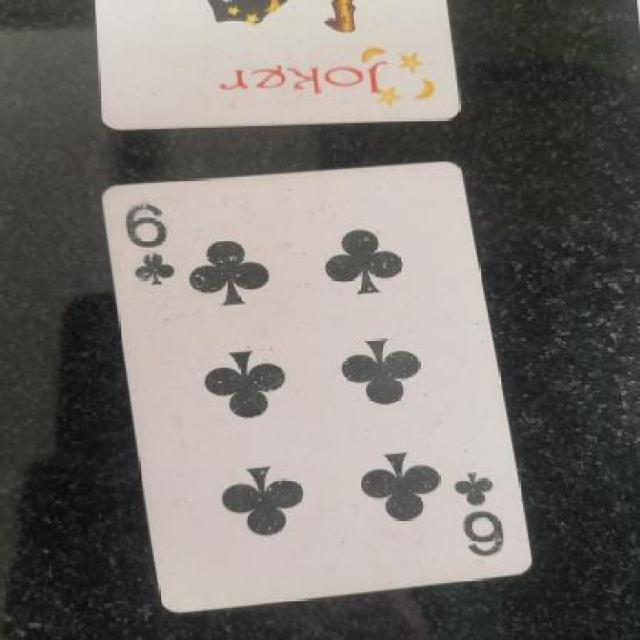6C: (122, 198, 193, 310), (447, 460, 519, 552)
